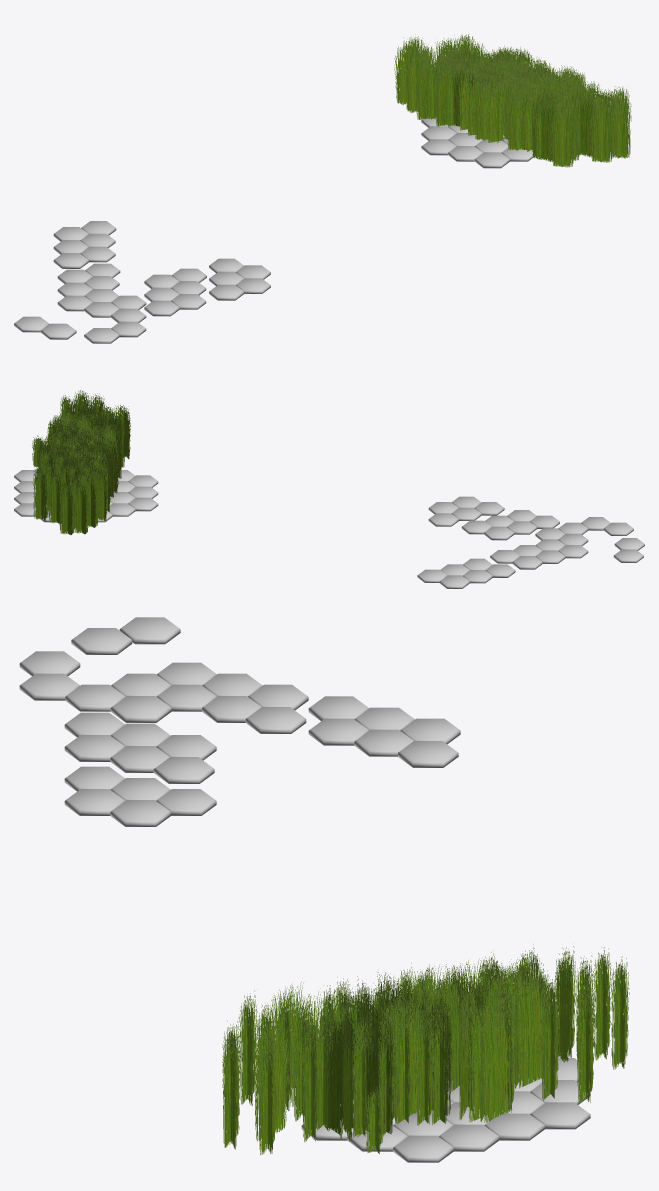
The model's file is TallGrassMolt.FBX.
3 views of the same model, one above another, from view 1: azimuth 30°, elevation 25°; view 2: azimuth 150°, elevation 25°; view 3: azimuth 270°, elevation 25° (orthographic). The views are drawn at different scales.
Parts seen in each view (by area): view 1: bladejunt, Cylinder020; view 2: bladejunt, Cylinder017, Cylinder022, Cylinder029, Cylinder058, Cylinder005, Cylinder035, Cylinder011, Cylinder013, Cylinder004, Cylinder034, Cylinder032 (+5 smaller); view 3: bladejunt, Cylinder041, Cylinder011, Cylinder013, Cylinder019, Cylinder020, Cylinder031, Cylinder025, Cylinder006, Cylinder021, Cylinder049, Cylinder027 (+27 smaller).
Boxes of the visible parts, <box> form: bladejunt: <box>394,34,631,167</box>; Cylinder020: <box>41,323,76,339</box>; bladejunt: <box>32,390,130,534</box>; Cylinder017: <box>484,526,514,540</box>; Cylinder022: <box>603,522,633,535</box>; Cylinder029: <box>439,575,469,588</box>; Cylinder058: <box>128,497,158,511</box>; Cylinder005: <box>428,513,458,526</box>; Cylinder035: <box>512,556,542,569</box>; Cylinder011: <box>613,549,643,562</box>; Cylinder013: <box>461,520,491,534</box>; Cylinder004: <box>474,502,504,515</box>; Cylinder034: <box>558,545,588,558</box>; Cylinder032: <box>535,550,565,563</box>; bladejunt: <box>222,944,629,1154</box>; Cylinder041: <box>393,1135,453,1162</box>; Cylinder011: <box>119,617,180,644</box>; Cylinder013: <box>153,757,214,783</box>; Cylinder019: <box>110,696,171,722</box>; Cylinder020: <box>71,628,132,654</box>; Cylinder031: <box>245,707,306,733</box>; Cylinder025: <box>398,741,458,767</box>; Cylinder006: <box>110,800,170,826</box>; Cylinder021: <box>19,673,79,700</box>; Cylinder049: <box>439,1124,499,1151</box>; Cylinder027: <box>308,718,368,745</box>.
Size of the model in its own units: 213 by 25.06 by 102.
